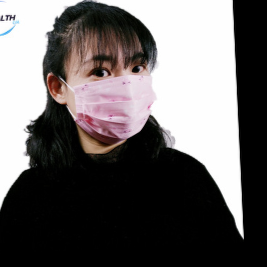with_mask: (66, 48, 155, 141)
